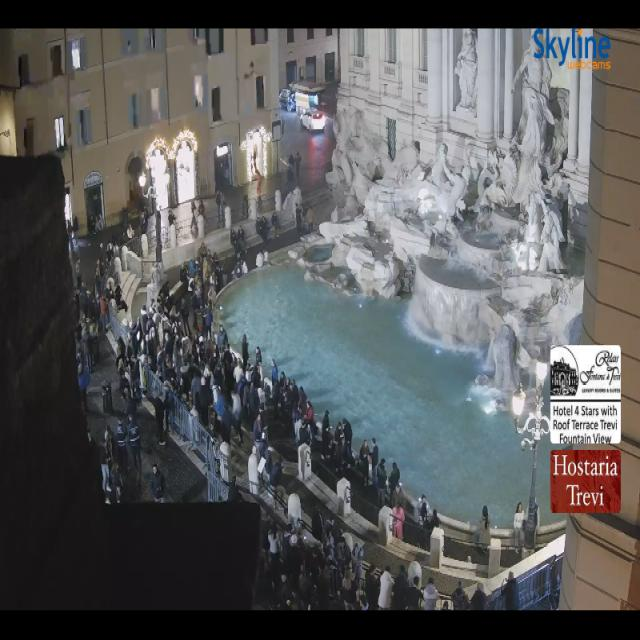person: (147, 311, 199, 372), (282, 525, 322, 599), (281, 524, 320, 590), (116, 306, 154, 369), (133, 321, 172, 381), (285, 525, 319, 590), (277, 534, 303, 610), (279, 525, 301, 610), (293, 528, 321, 592), (183, 293, 204, 367), (273, 373, 296, 430), (374, 459, 401, 506), (282, 524, 301, 590), (152, 284, 171, 349), (244, 364, 266, 420), (172, 328, 190, 396), (116, 328, 140, 377), (290, 379, 314, 427), (341, 532, 363, 584), (271, 375, 291, 430), (157, 282, 176, 338), (96, 266, 119, 311), (285, 525, 303, 581), (164, 359, 176, 437), (298, 385, 328, 415), (192, 337, 210, 386), (199, 342, 217, 391), (417, 496, 439, 536), (221, 406, 243, 444), (139, 306, 155, 356), (74, 290, 86, 356), (86, 312, 99, 371), (277, 572, 297, 610), (292, 408, 312, 446), (88, 298, 99, 367), (392, 566, 409, 610), (268, 523, 280, 585), (340, 564, 356, 610), (204, 356, 219, 405), (316, 558, 330, 610), (304, 545, 322, 585), (128, 416, 141, 471), (198, 246, 212, 296), (279, 374, 291, 431), (195, 377, 209, 425), (136, 306, 154, 343), (152, 395, 165, 446), (284, 379, 297, 430), (269, 459, 282, 509), (502, 572, 519, 610), (139, 337, 154, 380), (378, 567, 393, 610), (365, 564, 379, 610), (117, 333, 133, 373), (179, 333, 199, 365), (212, 254, 228, 293), (188, 255, 201, 302), (220, 344, 233, 391), (215, 264, 236, 293), (305, 546, 320, 586), (244, 355, 263, 386), (78, 364, 90, 413), (150, 464, 165, 503), (116, 421, 127, 474), (109, 463, 123, 504), (80, 321, 91, 373), (425, 510, 440, 548), (130, 321, 142, 368), (514, 502, 525, 552), (299, 568, 312, 610), (406, 576, 422, 610), (99, 438, 108, 498), (157, 281, 172, 317), (452, 581, 470, 610), (550, 563, 561, 610), (336, 534, 351, 568), (479, 506, 490, 552), (84, 300, 97, 338), (452, 581, 469, 610), (294, 417, 311, 446), (377, 458, 387, 506), (342, 418, 352, 466), (352, 542, 363, 585), (104, 425, 115, 468), (239, 375, 250, 418), (180, 295, 191, 338), (360, 440, 370, 487), (180, 356, 192, 395), (322, 518, 335, 554), (322, 520, 334, 559), (424, 577, 438, 610), (392, 502, 404, 540), (232, 235, 243, 276), (471, 582, 487, 610), (96, 242, 109, 276), (74, 315, 83, 364), (139, 198, 151, 234), (335, 423, 343, 477), (389, 462, 399, 504), (252, 414, 263, 451), (139, 198, 150, 235), (192, 290, 201, 335), (137, 304, 149, 337), (80, 286, 89, 330), (96, 244, 107, 280), (191, 372, 202, 408), (371, 439, 379, 488), (304, 400, 315, 435), (141, 207, 155, 234), (244, 360, 259, 385), (299, 387, 310, 421), (164, 333, 175, 367), (312, 507, 323, 541), (70, 215, 79, 256), (272, 379, 281, 420), (228, 476, 242, 502), (321, 425, 332, 458), (213, 253, 222, 293), (105, 469, 115, 504), (295, 418, 307, 447), (234, 236, 244, 270), (114, 285, 127, 311), (156, 344, 165, 381), (96, 244, 106, 277), (249, 383, 259, 416), (417, 494, 427, 527), (233, 229, 244, 259), (87, 215, 104, 234), (156, 210, 162, 261), (100, 295, 108, 333), (255, 170, 262, 212), (216, 325, 228, 349), (208, 273, 216, 309), (390, 483, 403, 504), (215, 391, 225, 417), (94, 260, 101, 297), (287, 154, 295, 186), (205, 304, 212, 340), (216, 191, 223, 226), (234, 360, 243, 387), (241, 192, 249, 220), (260, 216, 268, 243), (180, 263, 188, 290), (277, 372, 287, 393), (191, 201, 197, 236), (75, 259, 82, 289), (140, 209, 148, 235), (220, 197, 227, 226), (87, 215, 97, 235), (72, 215, 79, 243), (67, 220, 73, 252), (233, 260, 243, 279), (190, 403, 199, 424), (295, 152, 301, 183), (272, 211, 279, 237), (87, 213, 95, 235), (307, 207, 314, 232), (106, 242, 114, 263), (237, 225, 244, 249), (322, 410, 330, 431), (255, 218, 263, 239), (252, 145, 258, 173), (534, 500, 539, 533), (296, 205, 302, 231), (74, 289, 79, 320), (112, 235, 119, 257), (359, 593, 368, 610), (272, 359, 278, 382), (99, 242, 103, 272), (127, 223, 134, 240), (280, 372, 287, 389), (168, 210, 175, 226), (230, 228, 236, 246), (256, 347, 262, 365), (288, 153, 294, 169), (198, 200, 204, 215), (119, 375, 123, 396), (281, 117, 284, 140), (191, 201, 195, 215), (442, 602, 448, 610)
